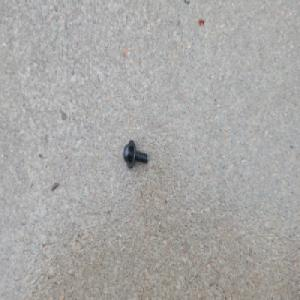BoltWasher: (123, 138, 149, 168)
